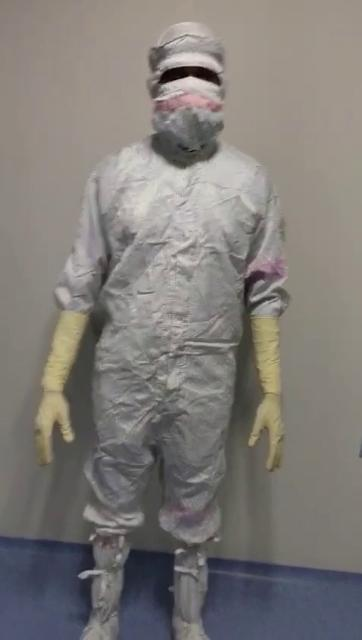gloves_fitted_securely: (230, 293, 302, 477), (27, 286, 89, 468)
headgear_secured: (144, 19, 236, 163)
zip_secured: (156, 148, 202, 424)
